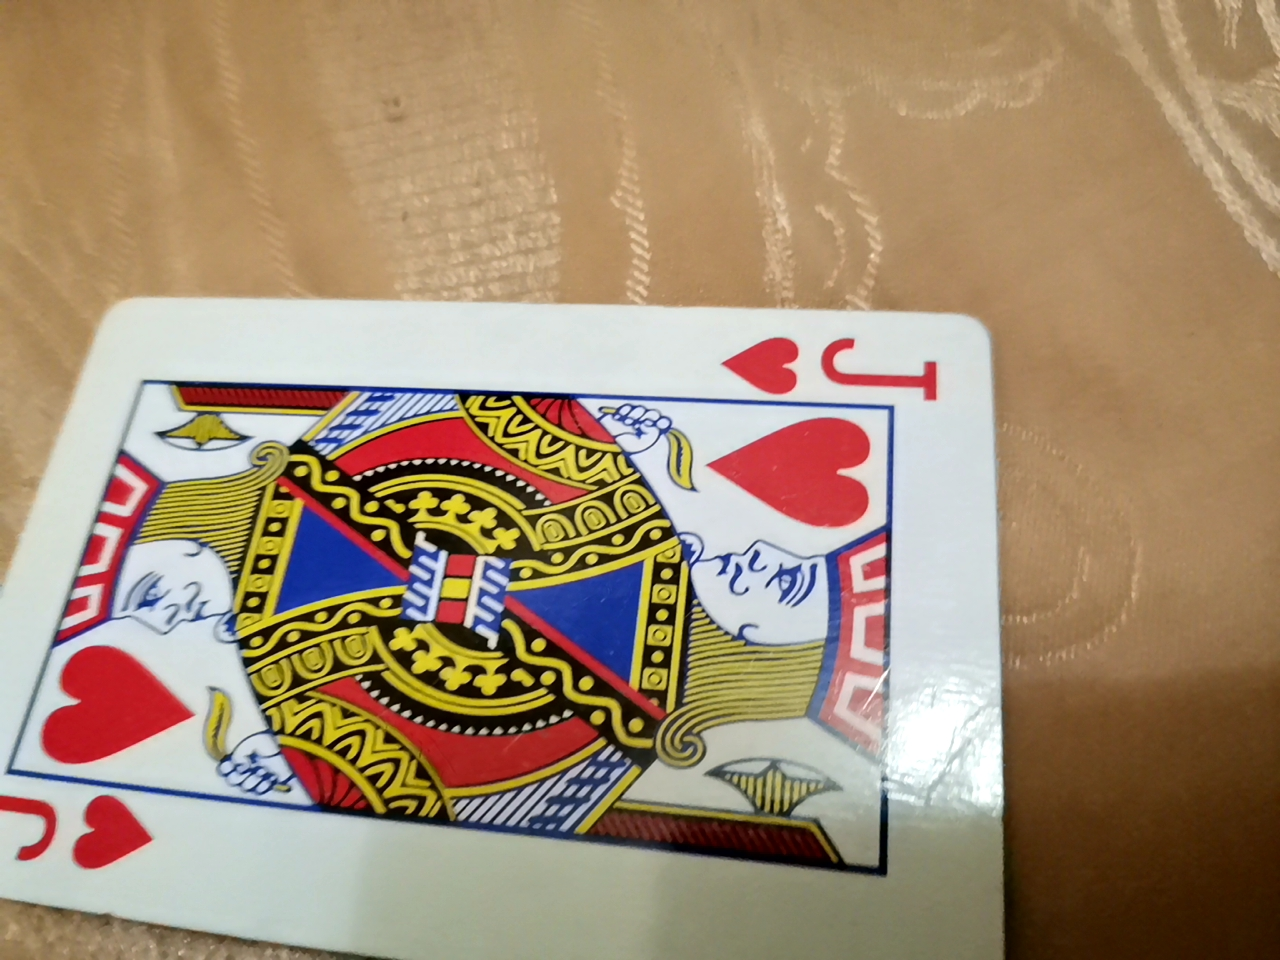hx j: (0, 254, 1007, 948)
